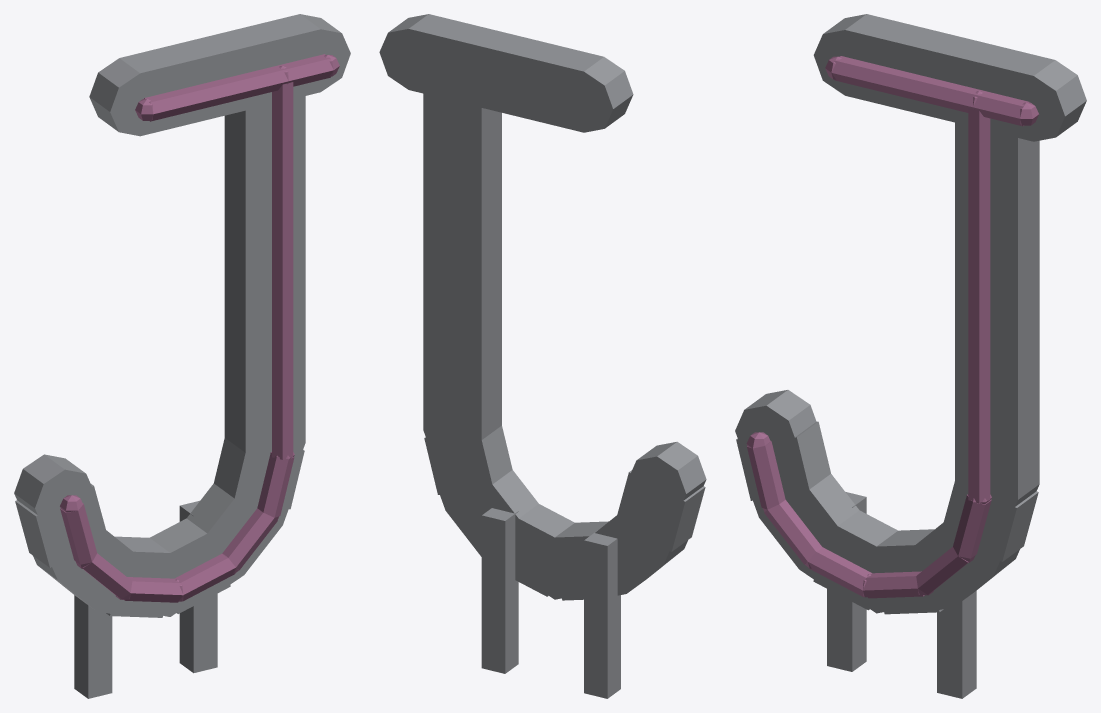
File: HJ_Neon_J.fbx
3 renders of one model, left to right at view 1: azimuth 30°, elevation 25°; view 2: azimuth 150°, elevation 25°; view 3: azimuth 330°, elevation 25°, orthographic. The views are drawn at different scales.
Visible parts, largest first — view 1: HJ_Neon_J; view 2: HJ_Neon_J; view 3: HJ_Neon_J.
Boxes of the visible parts, <box> form: HJ_Neon_J: <box>14,14,350,698</box>; HJ_Neon_J: <box>379,14,706,698</box>; HJ_Neon_J: <box>735,14,1086,698</box>.
Bounding box in the file's own units: 1.05 × 2 × 0.255.
